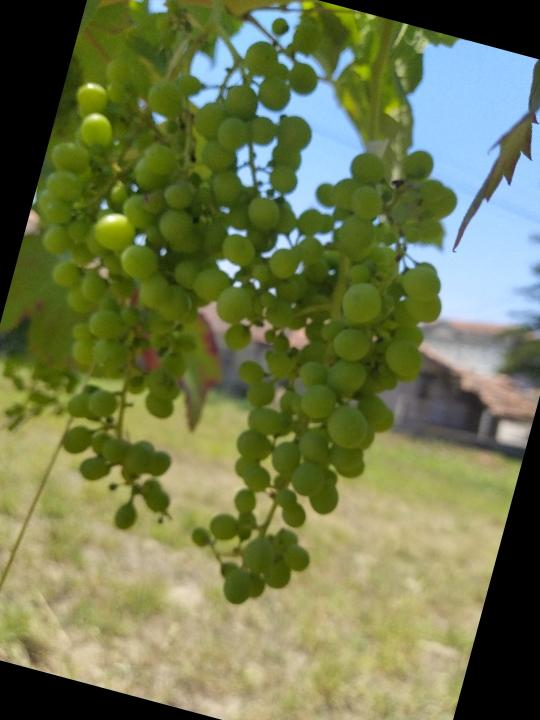grape: (0, 0, 340, 553), (158, 113, 483, 643)
